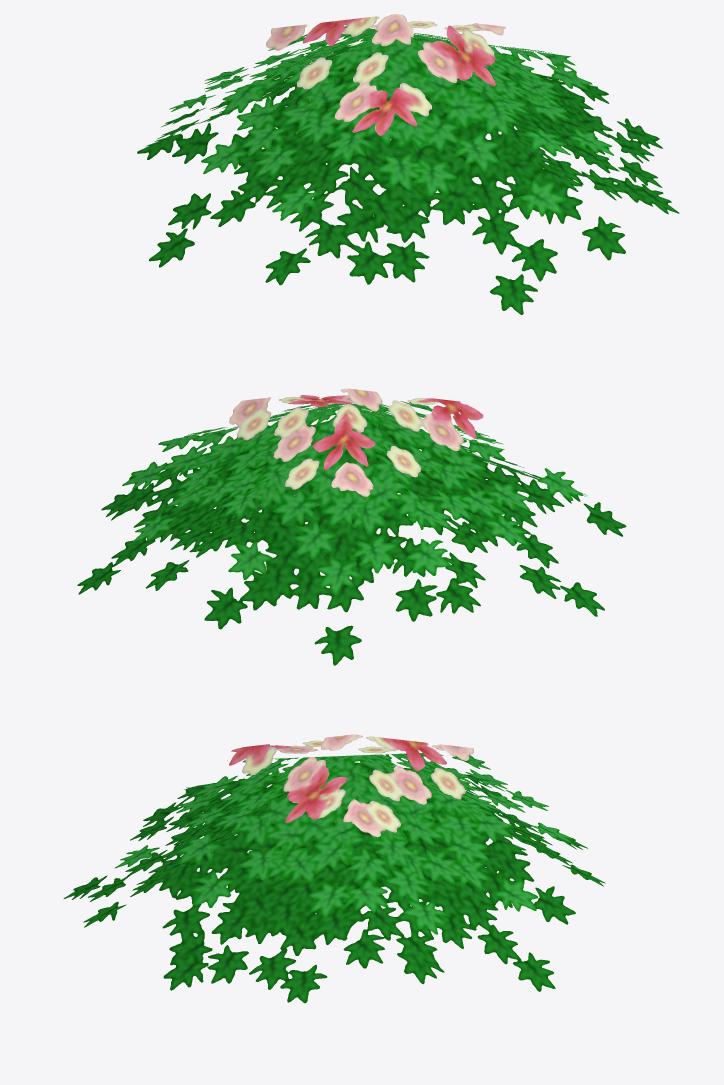
Rendered from grass.FBX.
3 views of the same model, one above another, from view 1: azimuth 30°, elevation 25°; view 2: azimuth 150°, elevation 25°; view 3: azimuth 270°, elevation 25° (orthographic). The views are drawn at different scales.
Visible parts, largest first — view 1: objpolySurface3287; view 2: objpolySurface3287; view 3: objpolySurface3287.
Part boxes in pixels (x1,y1,x2,y2): objpolySurface3287: (137, 14, 679, 314); objpolySurface3287: (77, 388, 626, 665); objpolySurface3287: (63, 734, 605, 1003).
Size of the model in its own units: 8.97 by 2.64 by 9.15.
